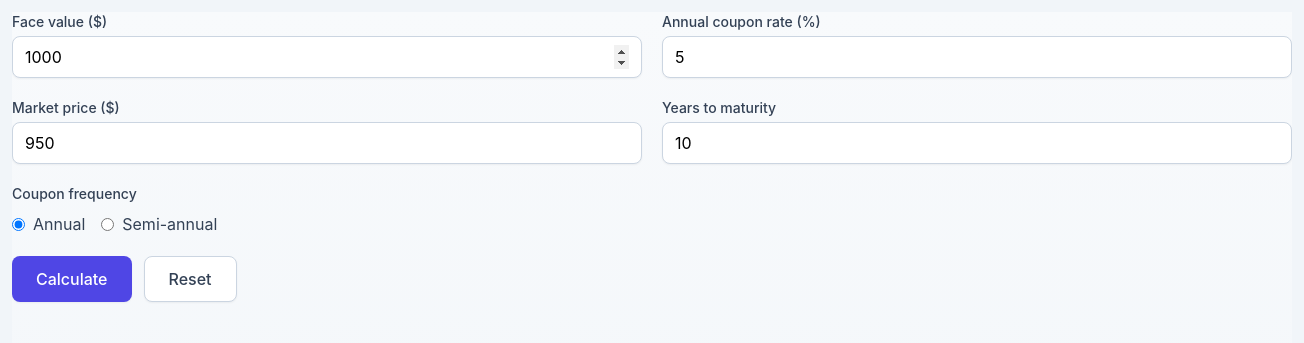
it: BondForm › shows validation error when face value is empty
Clear the number field labelled "Face value ($)". click: (327, 57)
box: [12,36,642,78]
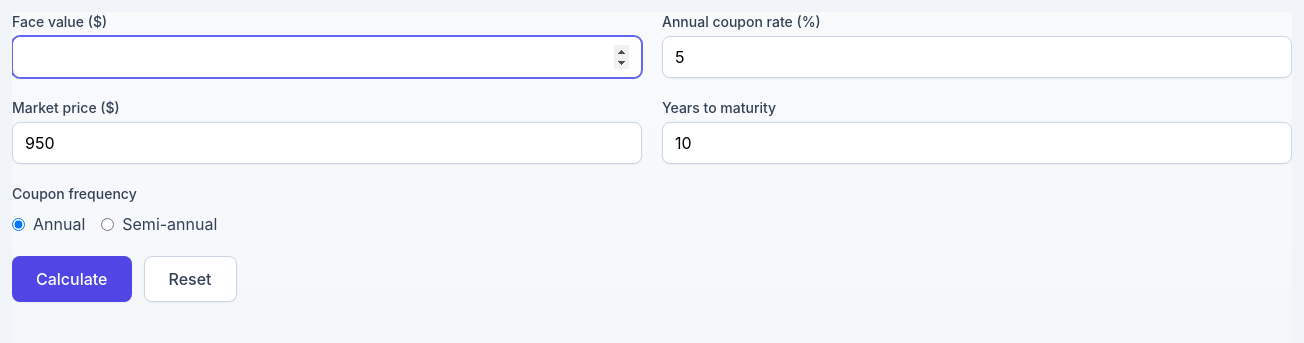
Click the button "Calculate". click: (72, 279)
box: [12,256,132,302]
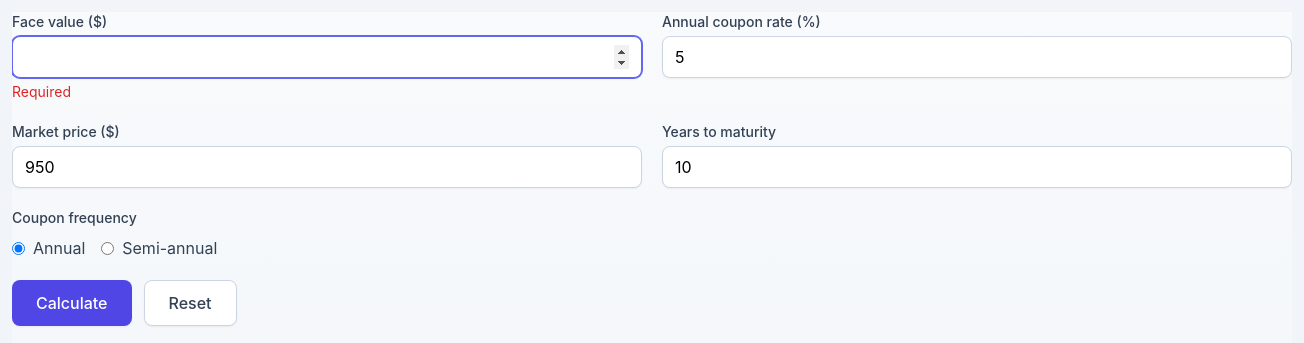
Now the text "Required" is shown, box [12,83,71,100]
